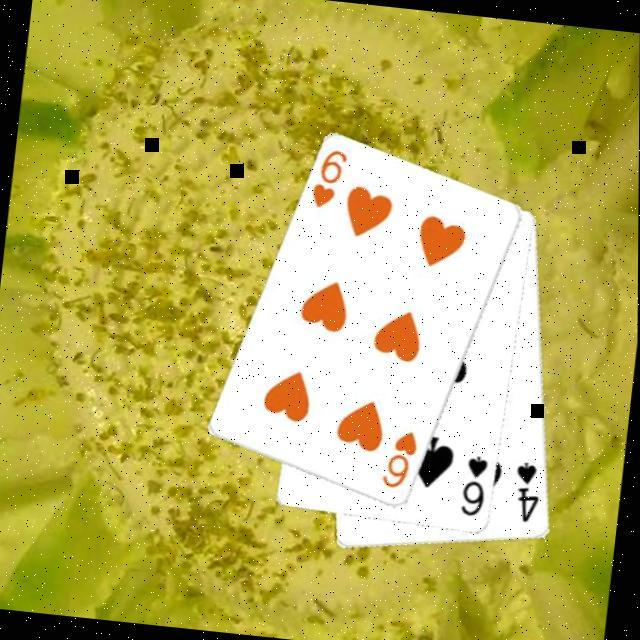4S: (506, 458, 546, 528)
6H: (376, 426, 422, 495), (306, 144, 351, 214)
6S: (456, 452, 491, 520)
